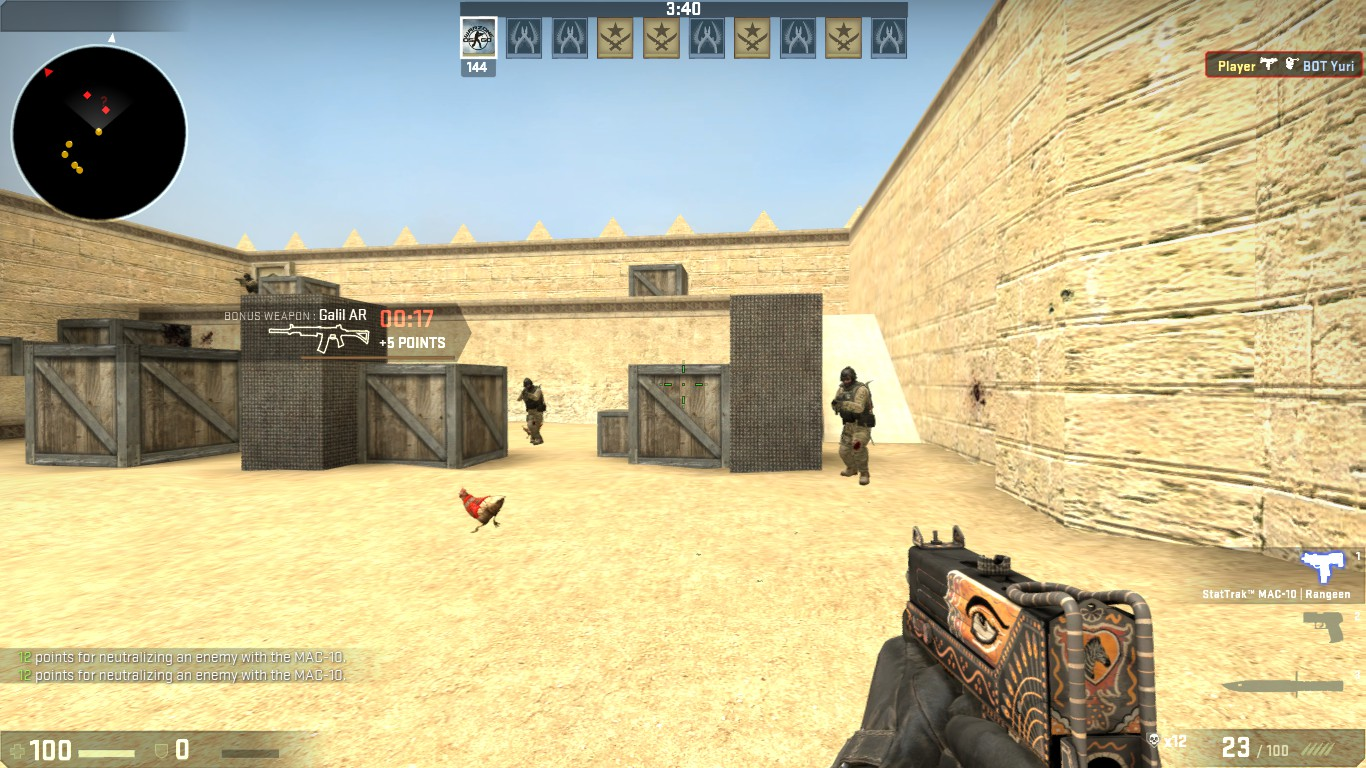c: (833, 363, 877, 485), (520, 375, 545, 445)
ch: (840, 364, 860, 389), (522, 375, 537, 392)
